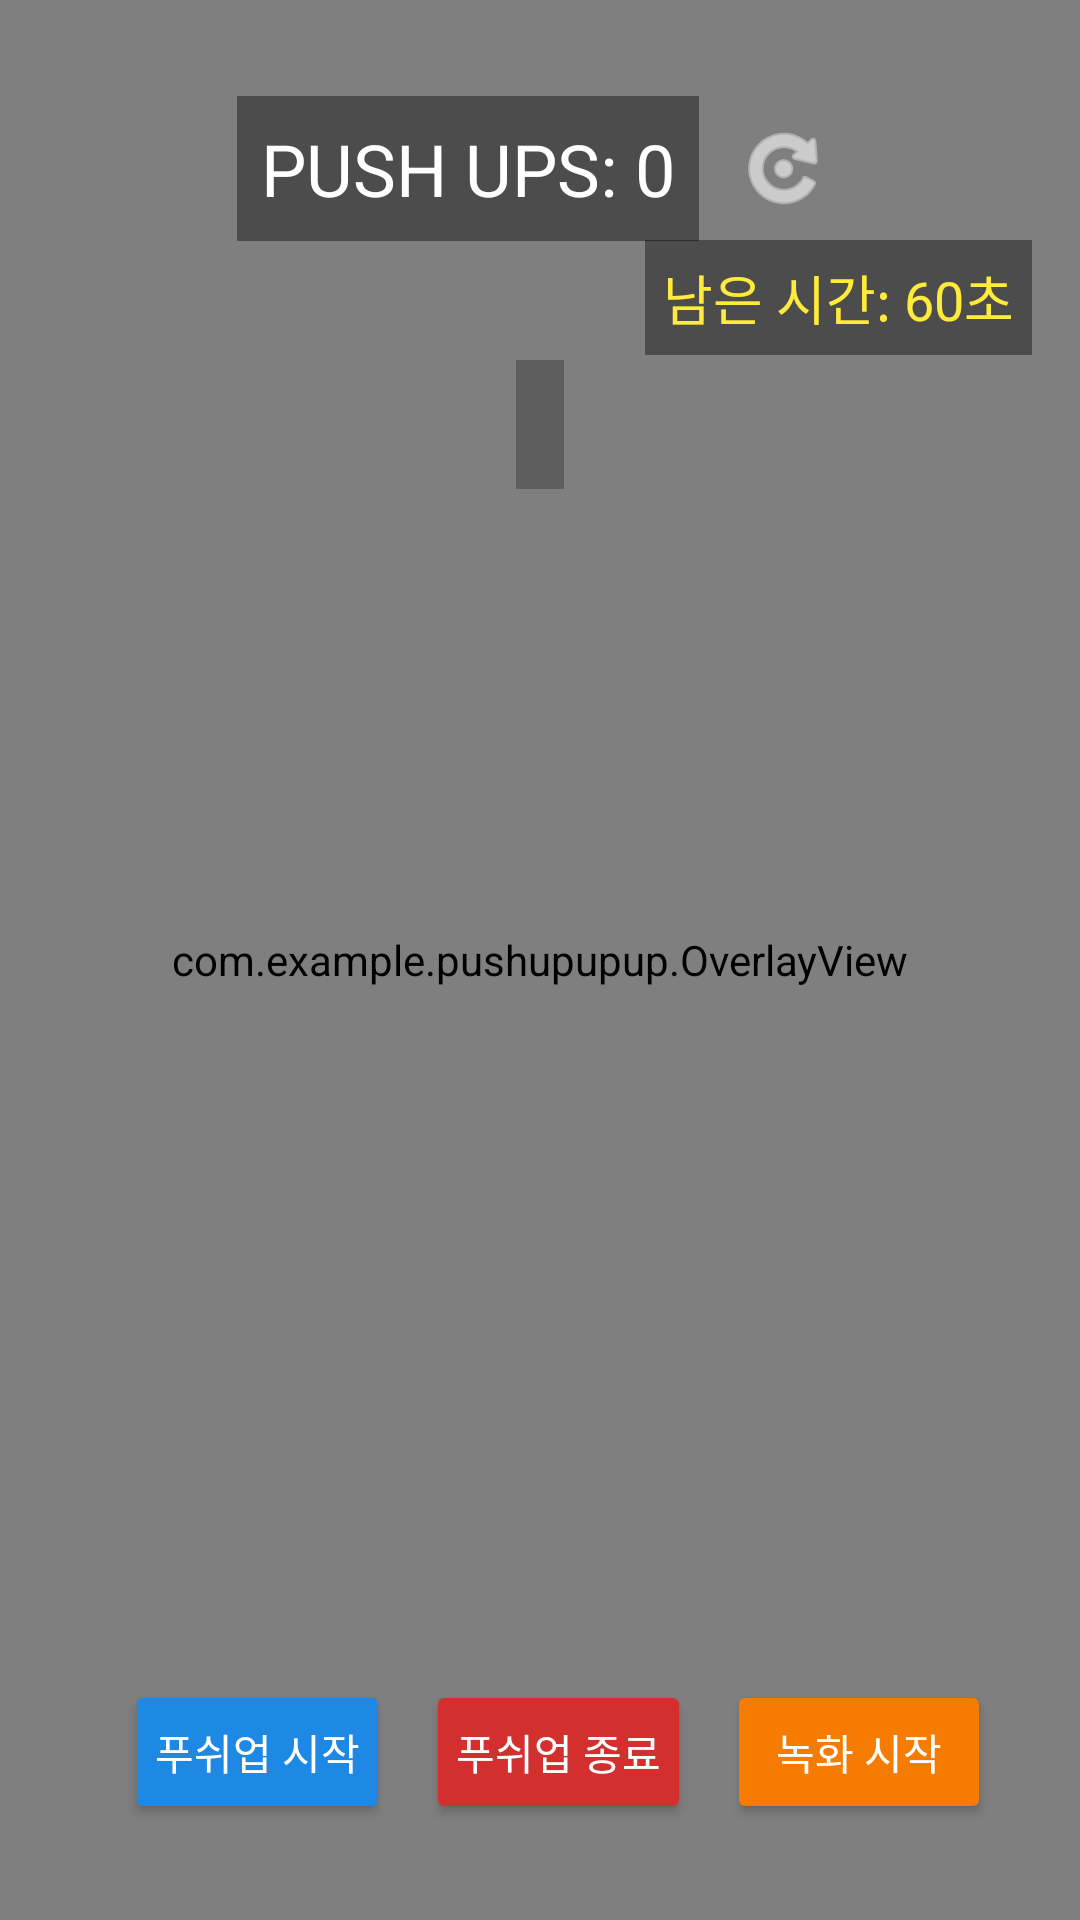

Point at icon controls on the screen. Image size 1080x1920, points as (x,y).
Reset Counter: (783,168)
